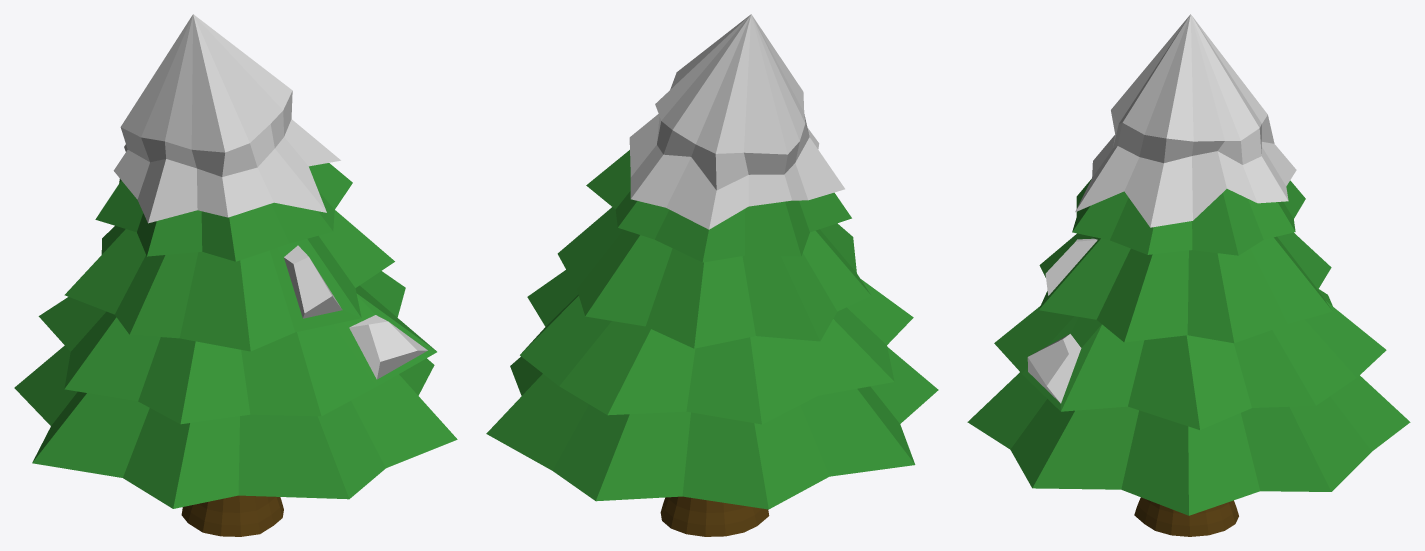
Rendered from snowy_christmas_tree.glb.
3 views of the same model, side by side, from view 1: azimuth 30°, elevation 25°; view 2: azimuth 150°, elevation 25°; view 3: azimuth 270°, elevation 25° (orthographic). The views are drawn at different scales.
Parts seen in each view (by area): view 1: Object_2, Object_4, Object_3; view 2: Object_2, Object_4, Object_3; view 3: Object_2, Object_4, Object_3.
Boxes of the visible parts, x1,y1,x2,y2 form: Object_2: (14, 163, 457, 508); Object_4: (113, 14, 427, 379); Object_3: (181, 495, 283, 536); Object_2: (486, 150, 938, 509); Object_4: (629, 14, 844, 229); Object_3: (660, 496, 769, 536); Object_2: (967, 179, 1410, 515); Object_4: (1027, 14, 1296, 403); Object_3: (1134, 497, 1238, 536).
Size of the model in its own units: 4.44 by 5.35 by 4.44.
